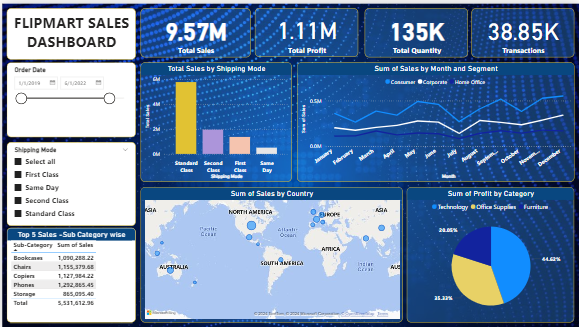

This screenshot's page, from the dashboard's own definition file:
{"tool":"powerbi","page":{"name":"Page 1","canvas":[1280,720],"ordinal":0},"visuals":[{"type":"card","fields":{"Values":["Sales.Sales"]},"box":[305,10,243.8,108.8],"z":0},{"type":"card","fields":{"Values":["Sales.Profit"]},"box":[560,10,229.2,108.3],"z":1000},{"type":"card","fields":{"Values":["Sales.Quantity"]},"box":[802,9.6,229.1,108.5],"z":2000},{"type":"card","fields":{"Values":["Sales.Order ID"]},"box":[1040.8,9.6,227.9,108.5],"z":3000},{"type":"clusteredColumnChart","title":"Total Sales by Shipping Mode","fields":{"Y":["Sales.Sales"],"Category":["Sales.Shipping Mode"]},"box":[305,130,335,265],"z":4000},{"type":"pieChart","fields":{"Category":["Sales.Category"],"Y":["Sales.Profit"]},"box":[897.3,407.6,371.5,300.3],"z":5000},{"type":"lineChart","fields":{"Y":["Sales.Sales"],"Category":["Sales.Order Date.Variation.Date Hierarchy.Month"],"Series":["Sales.Segment"]},"box":[653.8,130,615,265],"z":6000},{"type":"map","fields":{"Size":["Sales.Sales"],"Category":["Sales.Country"]},"box":[305,407.5,581.2,300],"z":7000},{"type":"tableEx","title":"Top 5 Sales -Sub Category wise","fields":{"Values":["Sales.Sub-Category","Sales.Sales"]},"box":[10,497.5,286.2,210],"z":8000},{"type":"slicer","fields":{"Values":["Sales.Shipping Mode"]},"box":[10,305,286.2,186.2],"z":9000},{"type":"slicer","fields":{"Values":["Sales.Order Date"]},"box":[10,130,286.2,166.2],"z":10000},{"type":"textbox","box":[10,8.8,286.2,113.8],"z":11000}]}

Visuals, with their boxes in screenshot pixels (x1, y1, x2, y2), scaled from the page's 1280x720 canvas onto the 579x327 screenshot:
card - Sales.Sales: (138, 5, 248, 54)
card - Sales.Profit: (253, 5, 357, 54)
card - Sales.Quantity: (363, 4, 466, 54)
card - Sales.Order ID: (471, 4, 574, 54)
"Total Sales by Shipping Mode" clusteredColumnChart: (138, 59, 290, 179)
pieChart - Sales.Category x Sales.Profit: (406, 185, 574, 322)
lineChart - Sales.Sales x Sales.Order Date.Variation.Date Hierarchy.Month: (296, 59, 574, 179)
map - Sales.Sales x Sales.Country: (138, 185, 401, 321)
"Top 5 Sales -Sub Category wise" tableEx: (5, 226, 134, 321)
slicer - Sales.Shipping Mode: (5, 139, 134, 223)
slicer - Sales.Order Date: (5, 59, 134, 135)
textbox: (5, 4, 134, 56)
